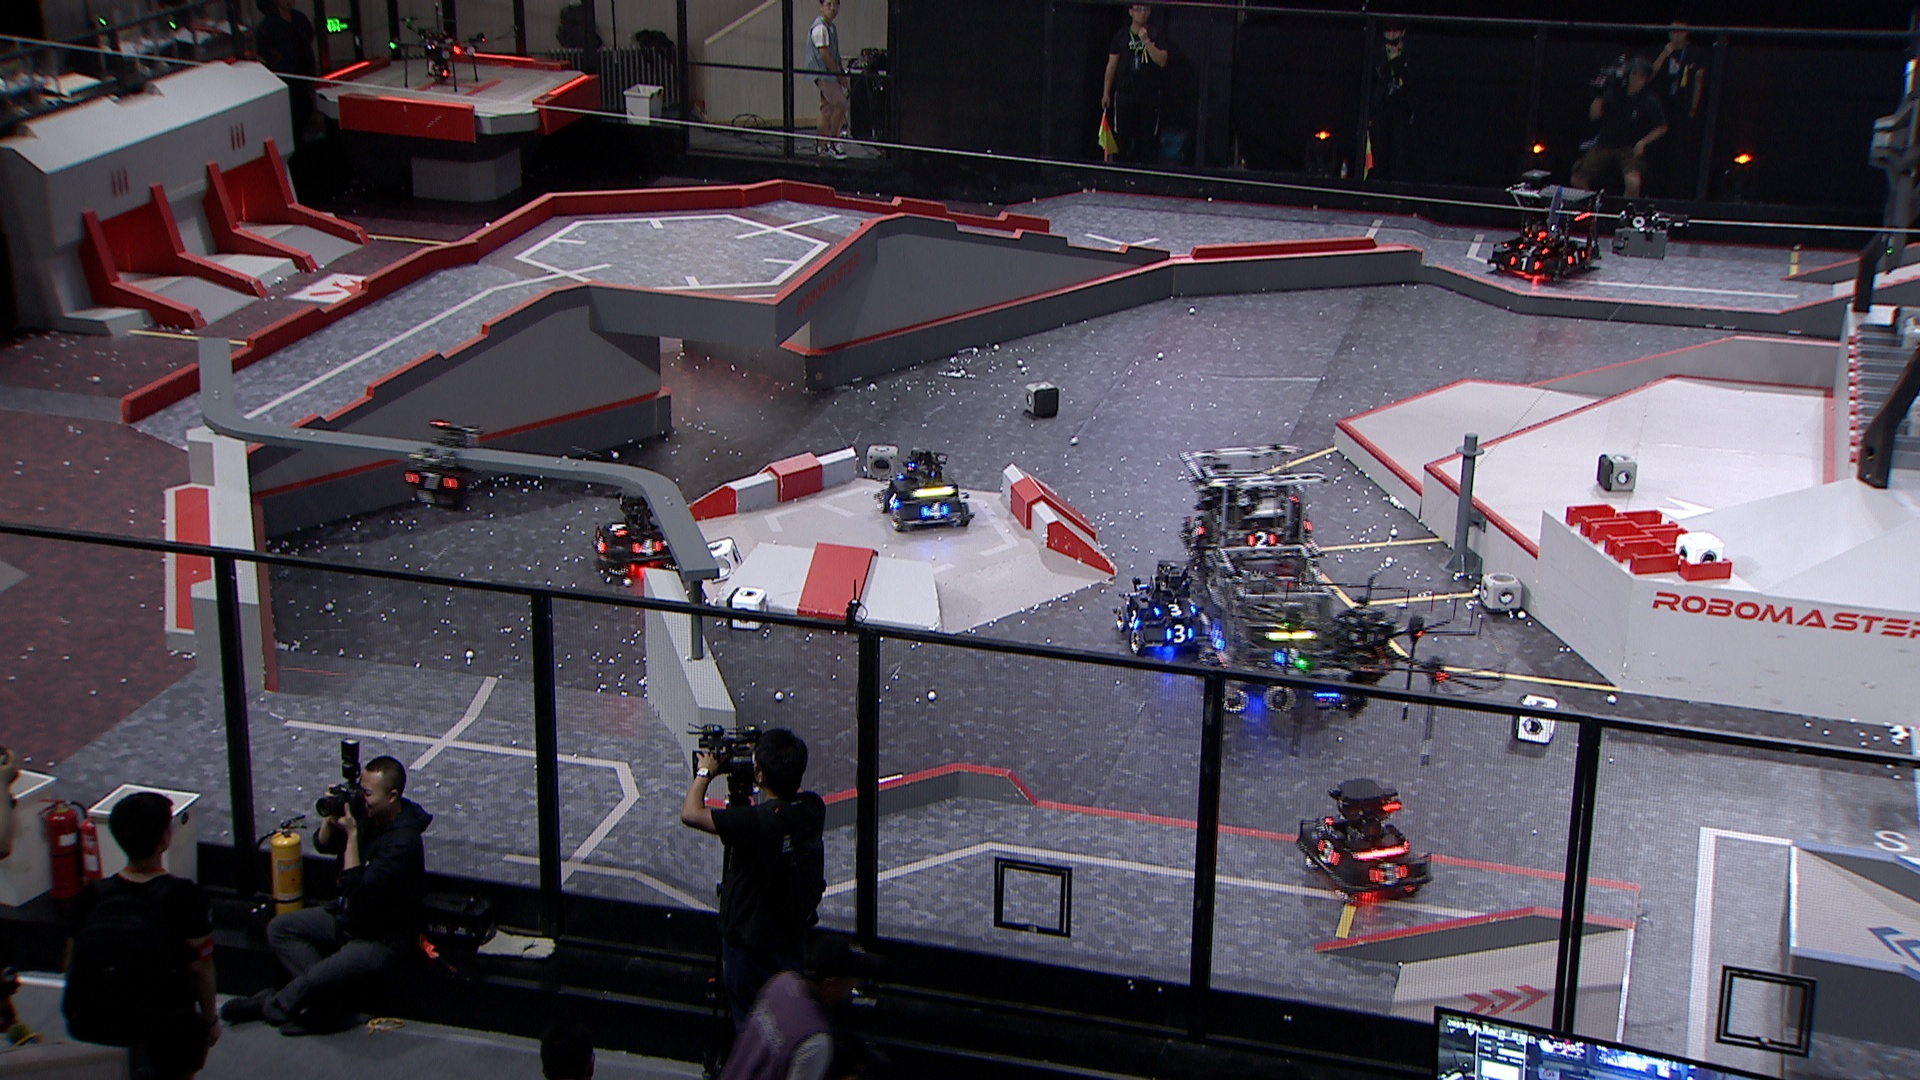armor: (404, 471, 458, 491), (1370, 858, 1406, 885), (1313, 837, 1342, 868), (1153, 603, 1199, 618), (1269, 645, 1304, 665), (629, 537, 665, 556), (1509, 255, 1544, 273), (1245, 529, 1278, 549), (1164, 622, 1193, 645), (920, 501, 949, 524), (1187, 516, 1209, 541), (1515, 240, 1553, 255), (1209, 622, 1228, 651), (605, 517, 628, 535), (884, 491, 901, 510), (1124, 609, 1141, 628), (593, 531, 608, 553), (1567, 249, 1585, 264)
car: (1189, 542, 1354, 713), (1179, 436, 1323, 580), (1295, 773, 1436, 905), (1486, 169, 1605, 284), (870, 443, 977, 537), (585, 485, 690, 579), (1112, 560, 1211, 655)
watcher: (401, 419, 484, 514)
